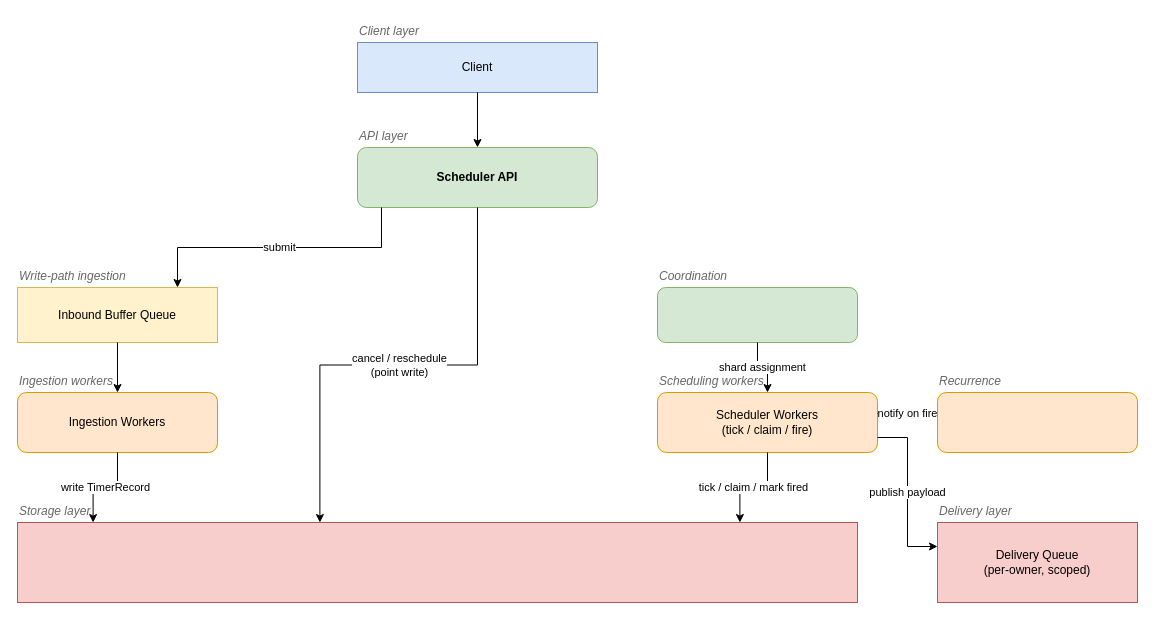
The diagram is 1155 pixels wide and 620 high, and some of its shapes have lost their labels. The centre of each missing label's shape, as x and y in pixels:
Coordination Service: (x=757, y=314)
Recurrence Service: (x=1037, y=422)
Timer Store (sharded) TimerRecord, by shardKey: (x=437, y=562)
